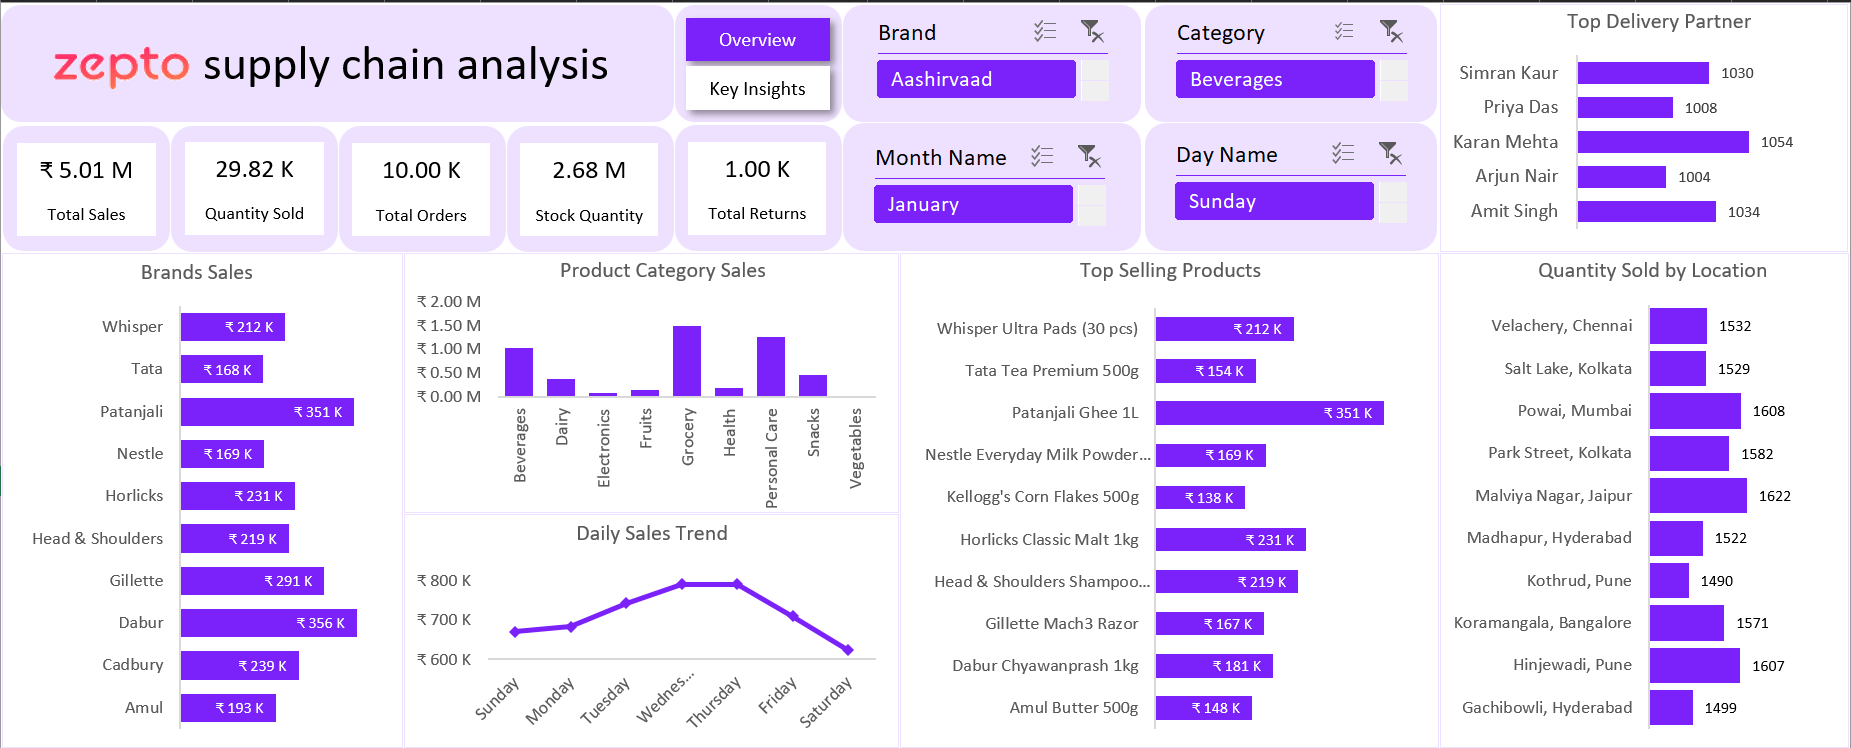

This screenshot's page, from the dashboard's own definition file:
{"tool":"powerbi","page":{"name":"Zepto Supply Chain Analysis","canvas":[3300,1800],"ordinal":0},"visuals":[{"type":"cardVisual","fields":{"Data":["Products.Total Sales","Dark Warehouses.Quantity Sold","Dark Warehouses.Total Orders","Dark Warehouses.Stock Quantity","Dark Warehouses.Total Returns"]},"box":[0,275,1655.2,271.9],"z":0},{"type":"clusteredBarChart","title":"Brands Sales","fields":{"Category":["Products.Brand"],"Y":["Products.Total Sales"]},"box":[6.4,547.1,908.7,1254.1],"z":1000},{"type":"clusteredColumnChart","title":"Product Category Sales","fields":{"Y":["Products.Total Sales"],"Category":["Products.Category"]},"box":[919,547,931,627],"z":2000},{"type":"lineChart","title":"Daily Sales Trend","fields":{"Category":["Orders.Day Name"],"Y":["Products.Total Sales"]},"box":[919.2,1179.1,930.8,622.1],"z":3000},{"type":"clusteredBarChart","title":"Top Selling Products","fields":{"Y":["Products.Total Sales"],"Category":["Products.ProductName"]},"box":[1854.5,547,711,1254],"z":4000},{"type":"clusteredBarChart","title":"Quantity Sold by Location","fields":{"Category":["Dark Warehouses.Location"],"Y":["suppy chain Measures.Quantity Sold"]},"box":[2570.5,547,729,1254],"z":5000},{"type":"clusteredBarChart","title":"Top Delivery Partner","fields":{"Category":["Delivery.DeliveryPartnerName"],"Y":["CountNonNull(Delivery.DeliveryID)"]},"box":[2570.5,0,728.5,542.5],"z":6000},{"type":"shape","box":[0,0,1254.9,275.3],"z":7000},{"type":"textbox","box":[356.2,48.6,874.4,174.1],"z":8000},{"type":"shape","box":[1259.4,0,390.6,275],"z":9000},{"type":"shape","box":[1655.2,0,445.8,272.9],"z":10000},{"type":"shape","box":[2109.4,0,457.3,272.9],"z":11000},{"type":"shape","box":[1655,280.5,445,262],"z":12000},{"type":"shape","box":[2109.5,275,456,267.5],"z":13000},{"type":"advancedSlicerVisual","title":"Brand","fields":{"Values":["Products.Brand"]},"box":[1677.4,15.1,400,233.3],"z":14000},{"type":"advancedSlicerVisual","title":"Category","fields":{"Values":["Products.Category"]},"box":[2133.3,16.2,400.8,234.8],"z":15000},{"type":"advancedSlicerVisual","title":"Month","fields":{"Values":["Orders.OrderDateTime.Variation.Date Hierarchy.Month"]},"box":[1675.9,295.5,400.8,234.8],"z":16000},{"type":"advancedSlicerVisual","title":"Day","fields":{"Values":["Orders.Day Name"]},"box":[2133.3,295.5,400.8,234.8],"z":17000},{"type":"actionButton","box":[1287.3,36.4,336,101.2],"z":18000},{"type":"actionButton","box":[1287.3,145.7,336,93.1],"z":19000},{"type":"image","box":[0,0,384,275.3],"z":20000}]}

Visuals, with their boxes on the page's 3300x1800 design canvas (x1, y1, x2, y2). These are canvas units, not pixel positions in the 1851x748 screenshot, which may show the page scaled, cropped or inside an application window:
cardVisual - Products.Total Sales x Dark Warehouses.Quantity Sold: box(0, 275, 1655, 547)
"Brands Sales" clusteredBarChart: box(6, 547, 915, 1801)
"Product Category Sales" clusteredColumnChart: box(919, 547, 1850, 1174)
"Daily Sales Trend" lineChart: box(919, 1179, 1850, 1801)
"Top Selling Products" clusteredBarChart: box(1854, 547, 2566, 1801)
"Quantity Sold by Location" clusteredBarChart: box(2570, 547, 3300, 1801)
"Top Delivery Partner" clusteredBarChart: box(2570, 0, 3299, 542)
shape: box(0, 0, 1255, 275)
textbox: box(356, 49, 1231, 223)
shape: box(1259, 0, 1650, 275)
shape: box(1655, 0, 2101, 273)
shape: box(2109, 0, 2567, 273)
shape: box(1655, 280, 2100, 542)
shape: box(2110, 275, 2566, 542)
"Brand" advancedSlicerVisual: box(1677, 15, 2077, 248)
"Category" advancedSlicerVisual: box(2133, 16, 2534, 251)
"Month" advancedSlicerVisual: box(1676, 296, 2077, 530)
"Day" advancedSlicerVisual: box(2133, 296, 2534, 530)
actionButton: box(1287, 36, 1623, 138)
actionButton: box(1287, 146, 1623, 239)
image: box(0, 0, 384, 275)
